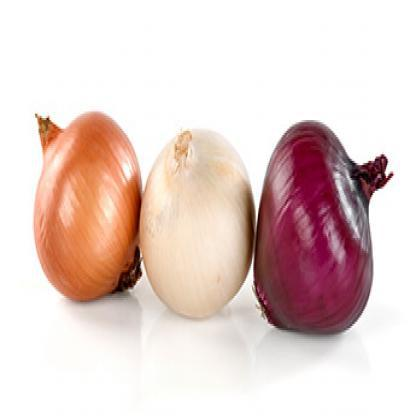onion: (265, 122, 391, 332), (34, 110, 142, 304), (147, 120, 252, 313)
